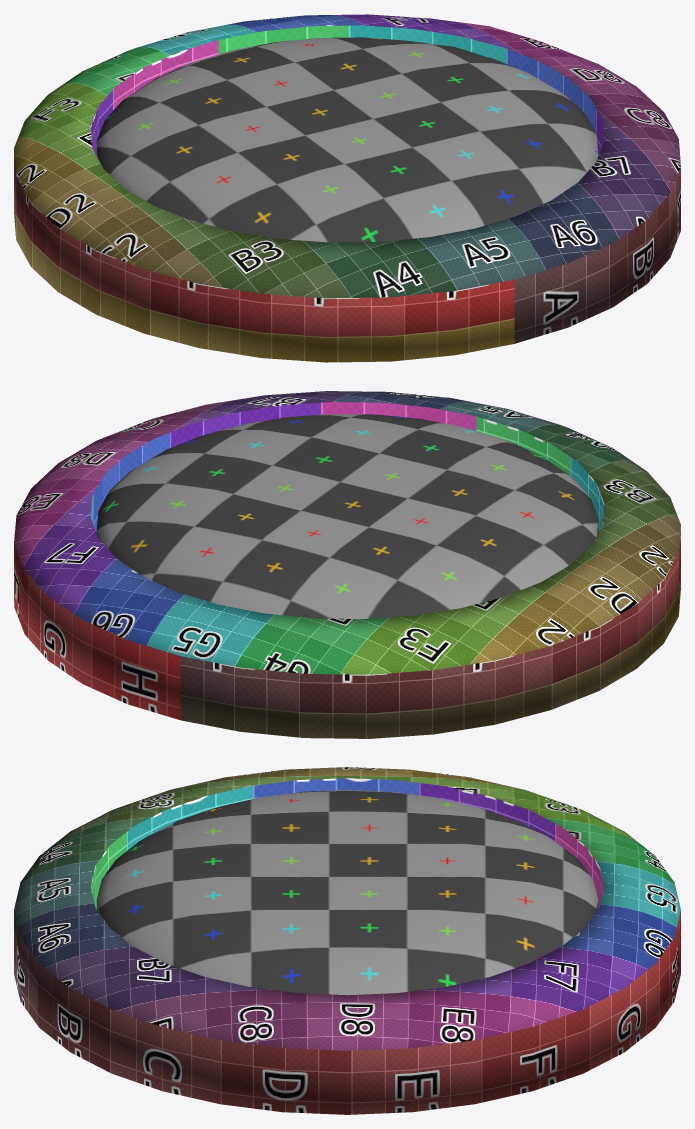
The model's file is button.gltf.
3 renders of one model, top to bottom at view 1: azimuth 30°, elevation 25°; view 2: azimuth 150°, elevation 25°; view 3: azimuth 270°, elevation 25°, orthographic.
Visible parts, largest first — view 1: button_0001; view 2: button_0001; view 3: button_0001.
Boxes of the visible parts, x1,y1,x2,y2 form: button_0001: [14, 14, 680, 362]; button_0001: [14, 391, 680, 738]; button_0001: [14, 767, 680, 1114].
Bounding box in the file's own units: 2.63 × 0.4577 × 2.63.
2 materials, 2 textured.
